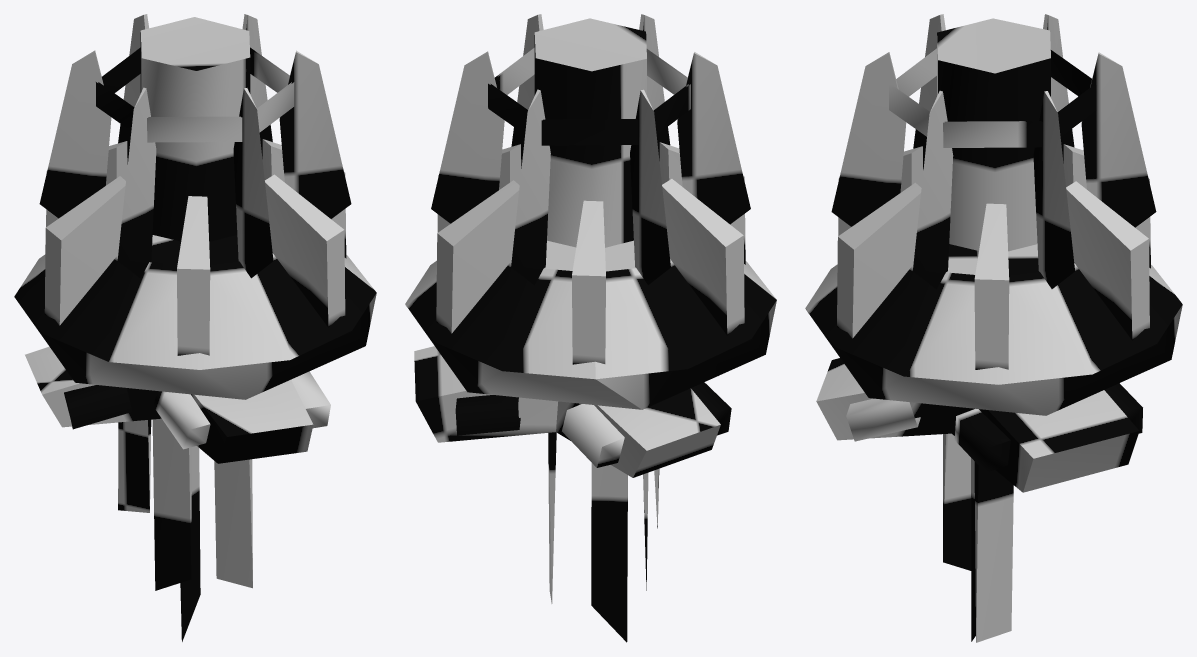
Rendered from building-hq-turret-small.obj.
3 views of the same model, side by side, from view 1: azimuth 30°, elevation 25°; view 2: azimuth 150°, elevation 25°; view 3: azimuth 270°, elevation 25° (orthographic). The views are drawn at different scales.
Parts seen in each view (by area): view 1: building_hq_turret_s_EIC; view 2: building_hq_turret_s_EIC; view 3: building_hq_turret_s_EIC.
Boxes of the visible parts, x1,y1,x2,y2 form: building_hq_turret_s_EIC: (14, 14, 376, 641); building_hq_turret_s_EIC: (405, 14, 776, 642); building_hq_turret_s_EIC: (805, 14, 1182, 642).
Size of the model in its own units: 50.17 by 90.98 by 51.05.
1 material, 1 textured.
